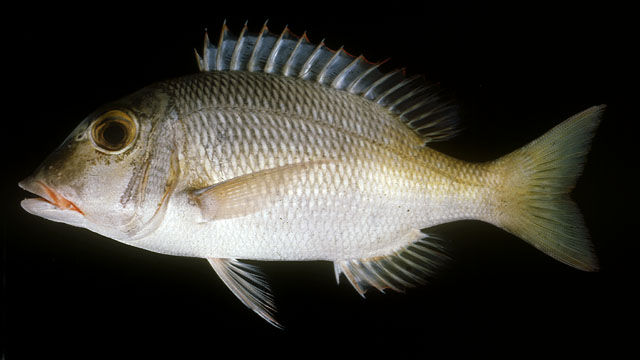fish: (17, 19, 607, 331)
